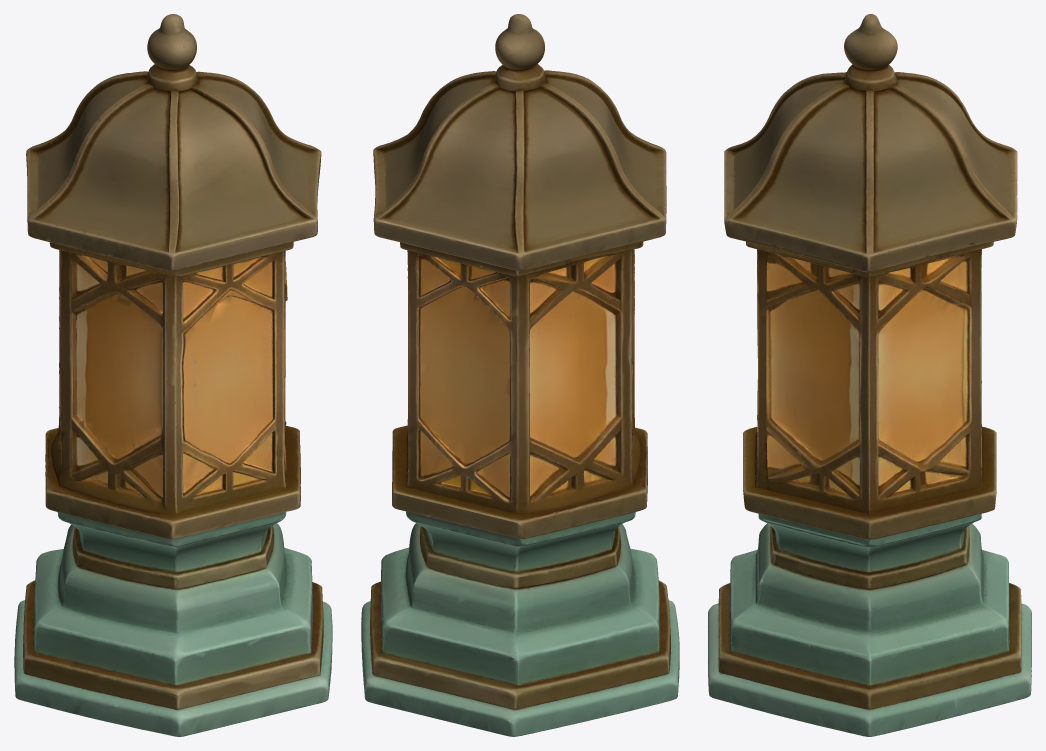
The model's file is act1_lantern_rodin.glb.
The picture shows the model from 3 angles, left to right: view 1: azimuth 30°, elevation 25°; view 2: azimuth 150°, elevation 25°; view 3: azimuth 270°, elevation 25°; orthographic projection.
Parts seen in each view (by area): view 1: model; view 2: model; view 3: model.
Part boxes in pixels (x1,y1,x2,y2): model: (14,14,332,736); model: (361,14,679,736); model: (708,14,1031,736).
Size of the model in its own units: 0.511 by 1 by 0.4547.
1 material, 1 textured.
